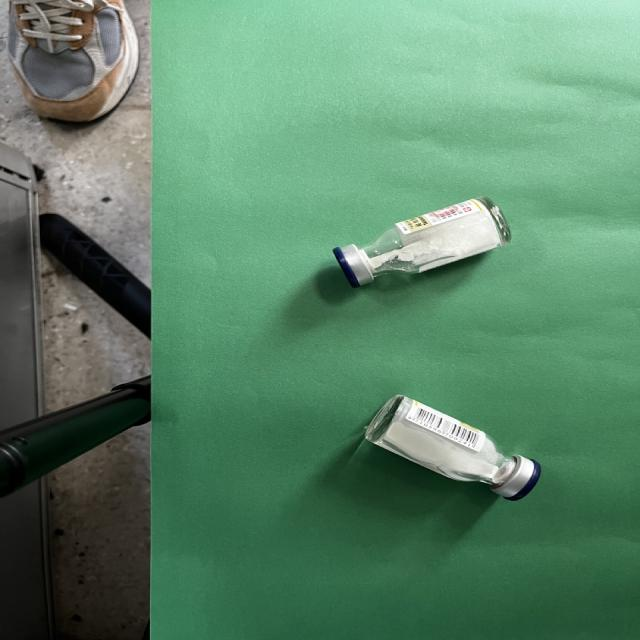Vials: (365, 395, 540, 500), (333, 197, 511, 288)
